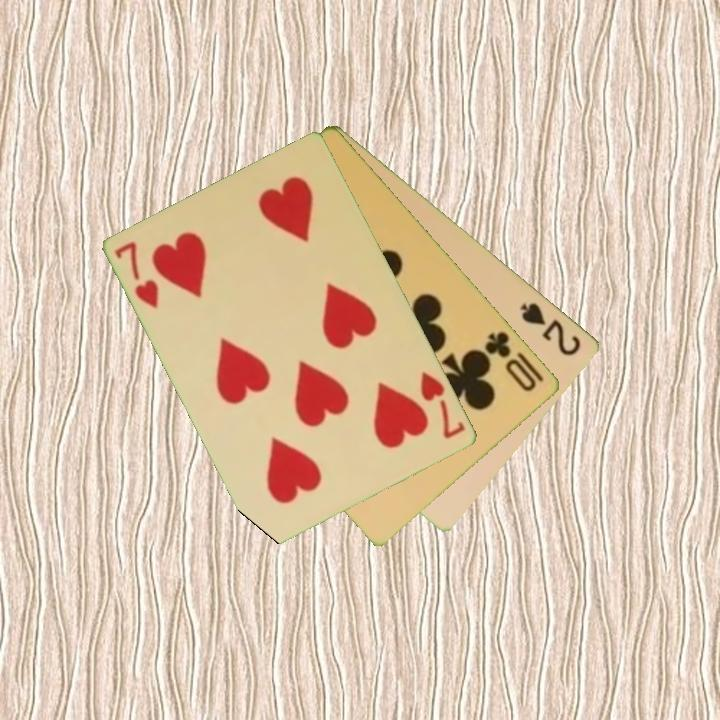10c: (481, 327, 540, 395)
2s: (517, 299, 585, 359)
7h: (417, 367, 469, 442), (111, 238, 163, 312)
